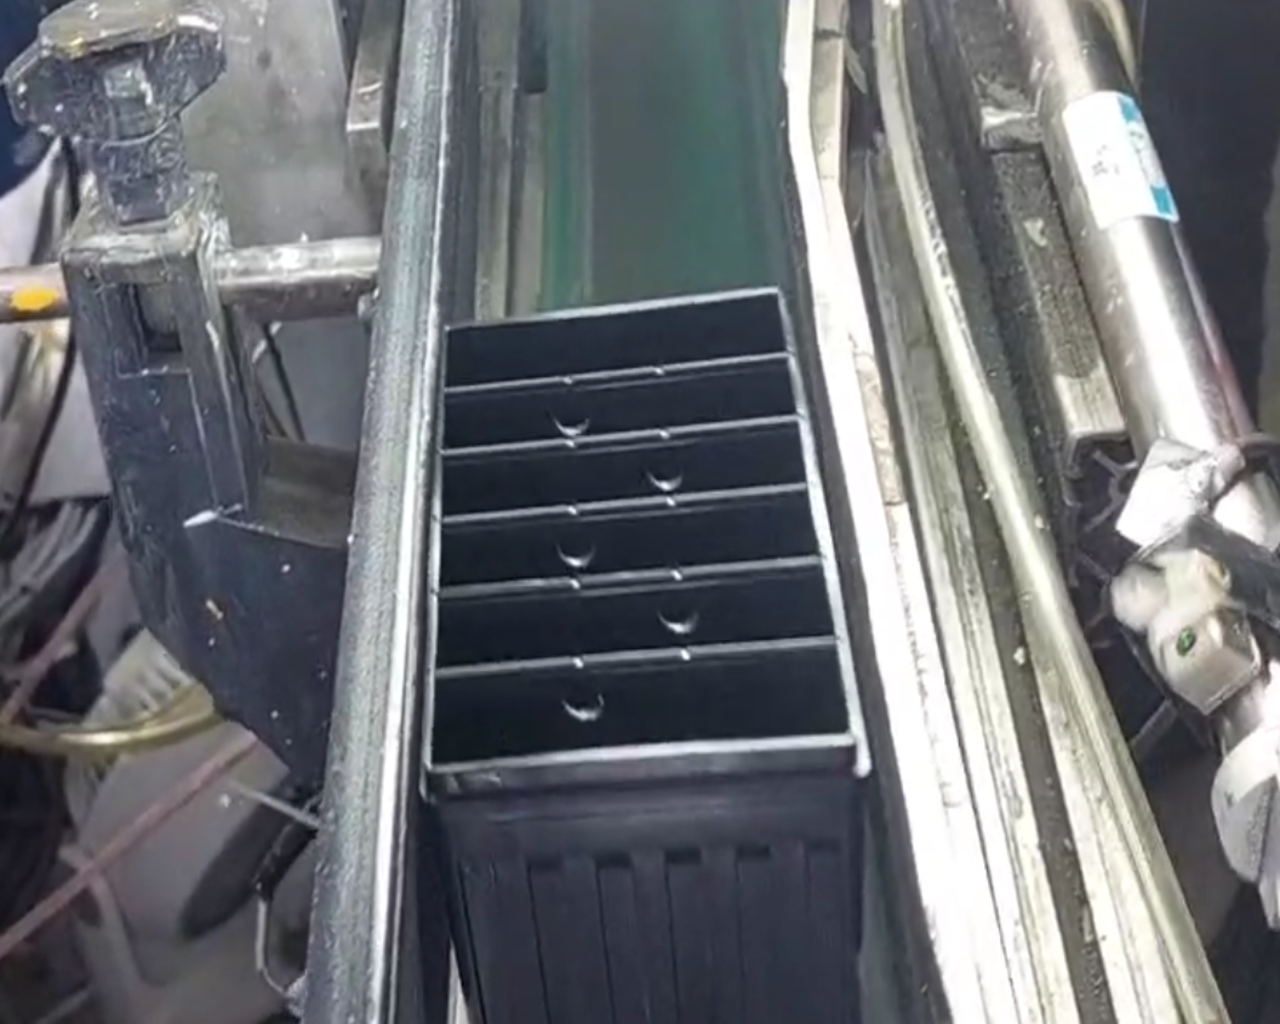box: (387, 268, 898, 806)
round: (635, 576, 715, 643), (536, 513, 610, 578), (628, 437, 699, 501), (550, 672, 621, 732), (536, 384, 602, 443)
